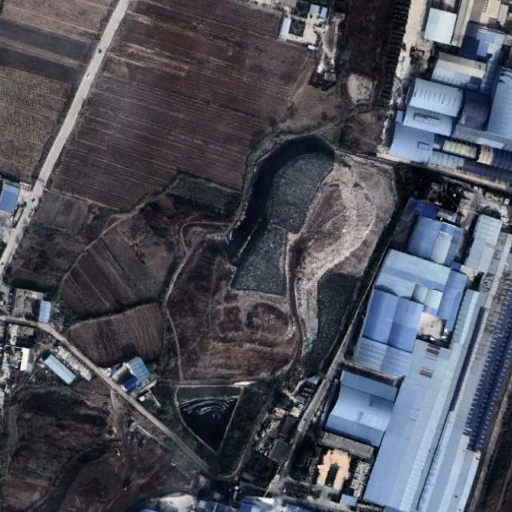lf: (191, 137, 389, 404)
